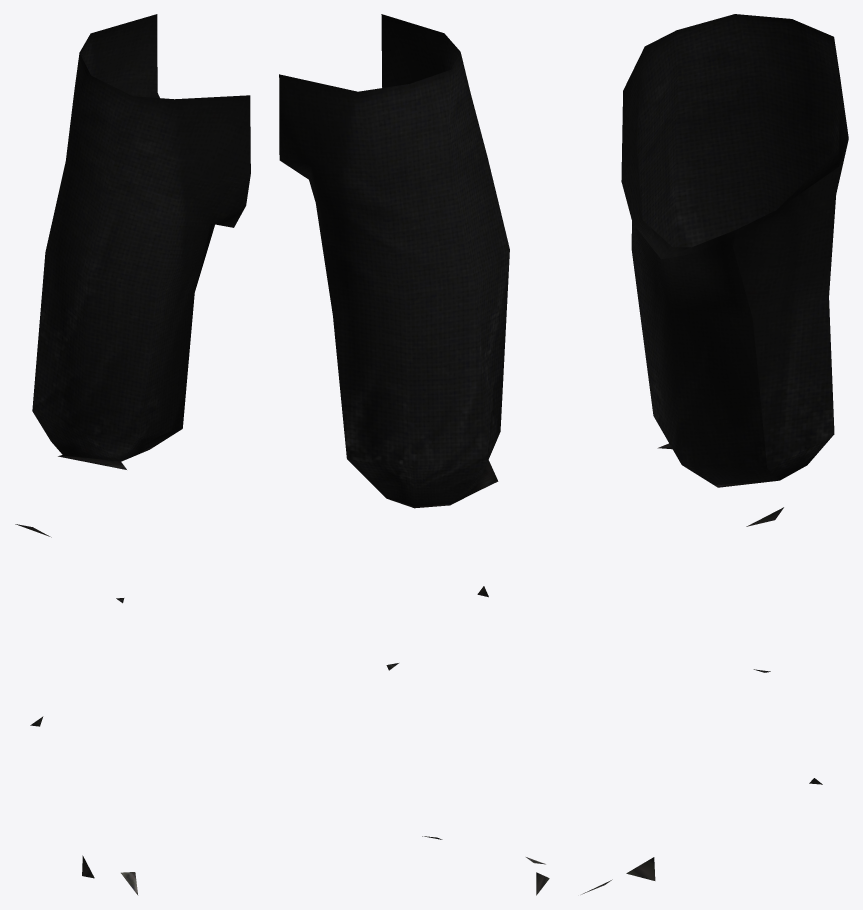
Rendered from reptilePierna01.obj.
The picture shows the model from 3 angles, left to right: view 1: azimuth 30°, elevation 25°; view 2: azimuth 150°, elevation 25°; view 3: azimuth 270°, elevation 25°; orthographic projection. The views are drawn at different scales.
Visible parts, largest first — view 1: MK-X_iOS_OUTWORLD_Syzoth_Reptile_Nimble-Noxious.001; view 2: MK-X_iOS_OUTWORLD_Syzoth_Reptile_Nimble-Noxious.001; view 3: MK-X_iOS_OUTWORLD_Syzoth_Reptile_Nimble-Noxious.001.
Part boxes in pixels (x1,y1,x2,y2): MK-X_iOS_OUTWORLD_Syzoth_Reptile_Nimble-Noxious.001: [15, 14, 250, 895]; MK-X_iOS_OUTWORLD_Syzoth_Reptile_Nimble-Noxious.001: [279, 14, 549, 895]; MK-X_iOS_OUTWORLD_Syzoth_Reptile_Nimble-Noxious.001: [581, 14, 848, 894].
Bounding box in the file's own units: 0.2749 × 1.21 × 0.331.
1 material, 1 textured.
